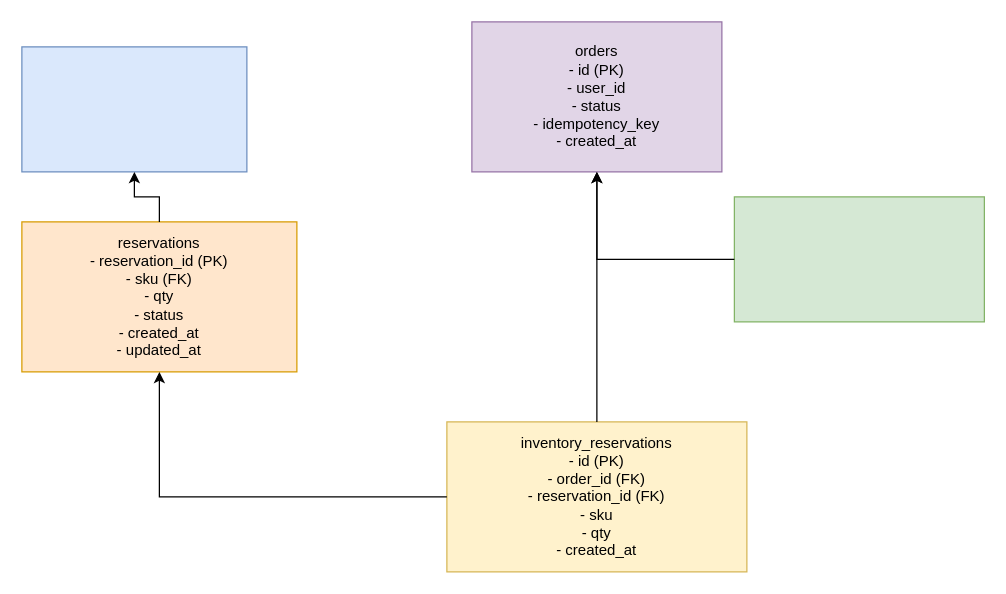
Some shapes in this 1006 by 594 pixel diagram are drawn without their labels. The shapes that lost their labels are listed below. From the top down, each one's box as (x1, y1, x2, y2) in pixels, then its label:
(21, 46, 247, 172): products - sku (PK) - name - total_stock - reserved_stock
(733, 196, 984, 322): order_items - id (PK) - order_id (FK) - sku - qty
